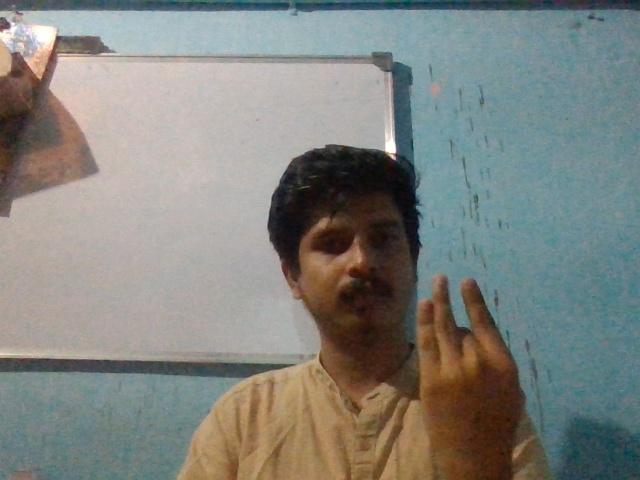Akash: (407, 266, 539, 463)
